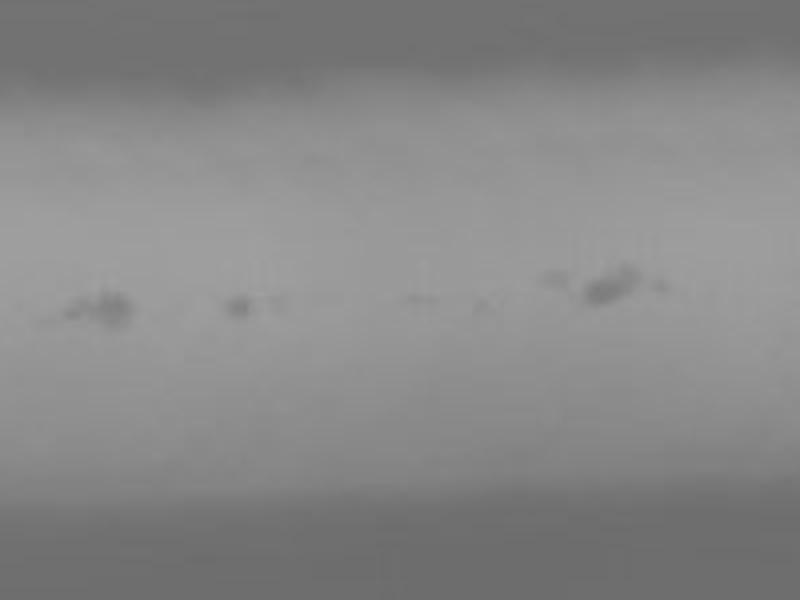defect: (87, 288, 133, 333), (585, 278, 624, 309), (616, 262, 644, 290), (225, 290, 251, 319), (537, 264, 571, 284), (61, 292, 85, 316), (265, 293, 289, 316), (649, 274, 673, 296)
